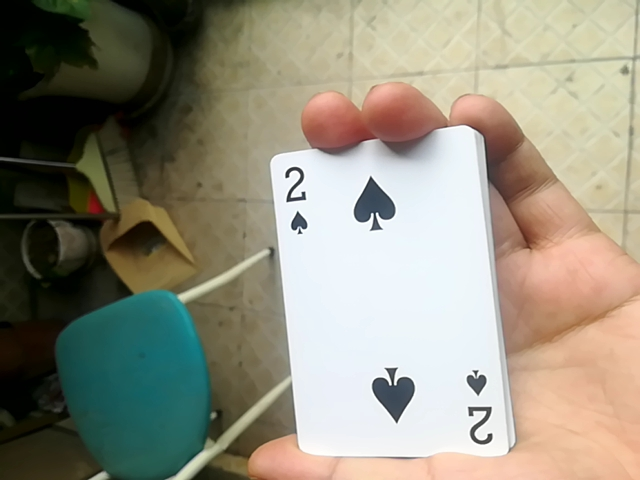ht 2: (266, 135, 513, 464)
